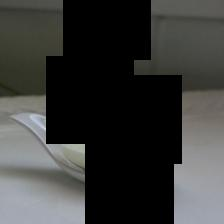green: (94, 123, 166, 158)
